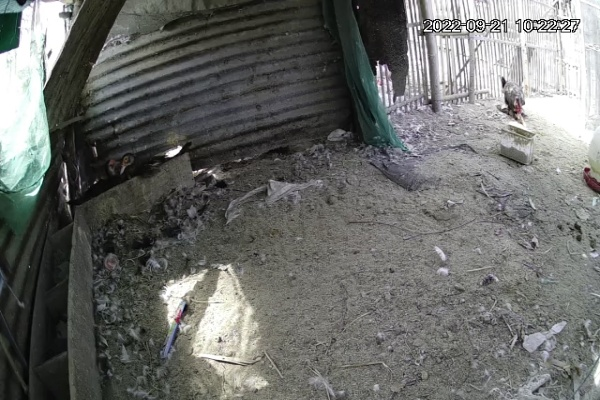Kawin: (493, 70, 535, 130)
